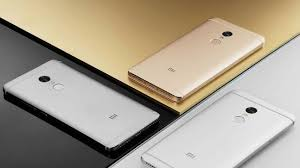mi: (123, 14, 267, 106)
